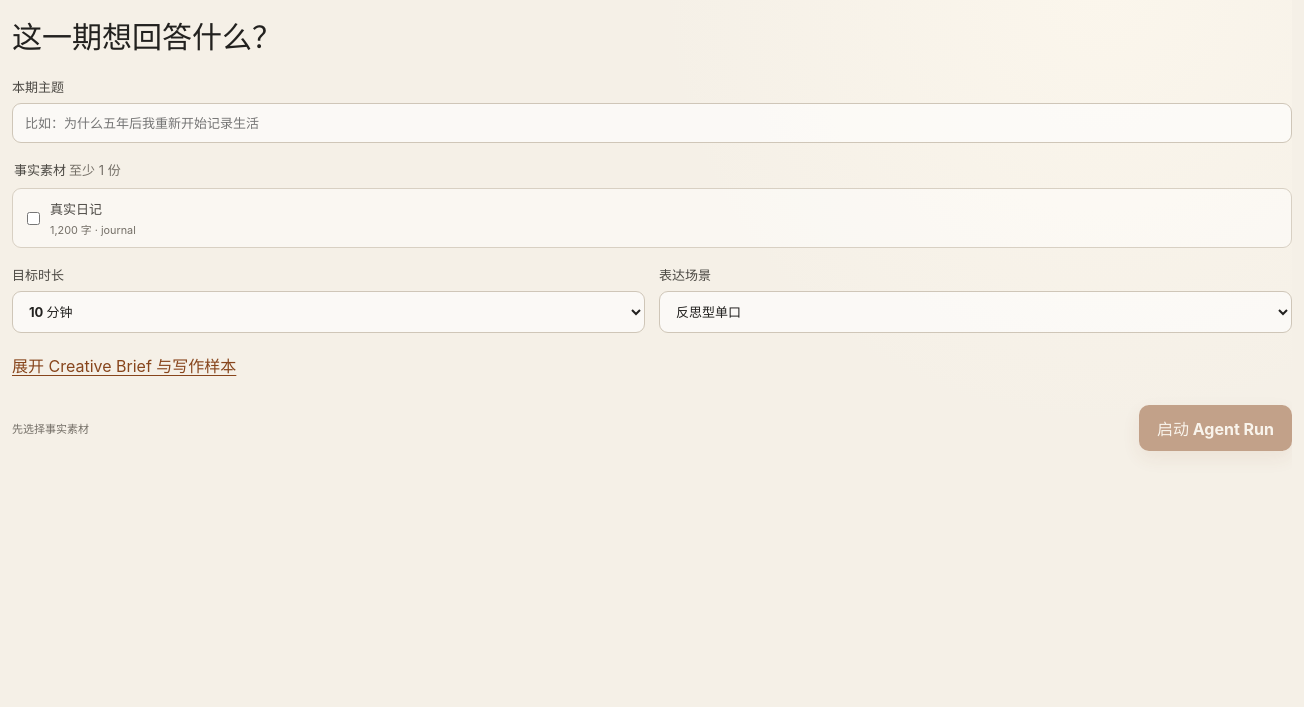
Test: Create Run writing-sample consent › offers writing samples only in the explicit style-only selector
The width and height of the screenshot is (1304, 707).
Expected: the checkbox named "作为事实素材选择：真实日记" is shown, [27,212,40,224]
Click the button "展开 Creative Brief 与写作样本": (124, 365) [12,353,236,377]
(page scrolled)
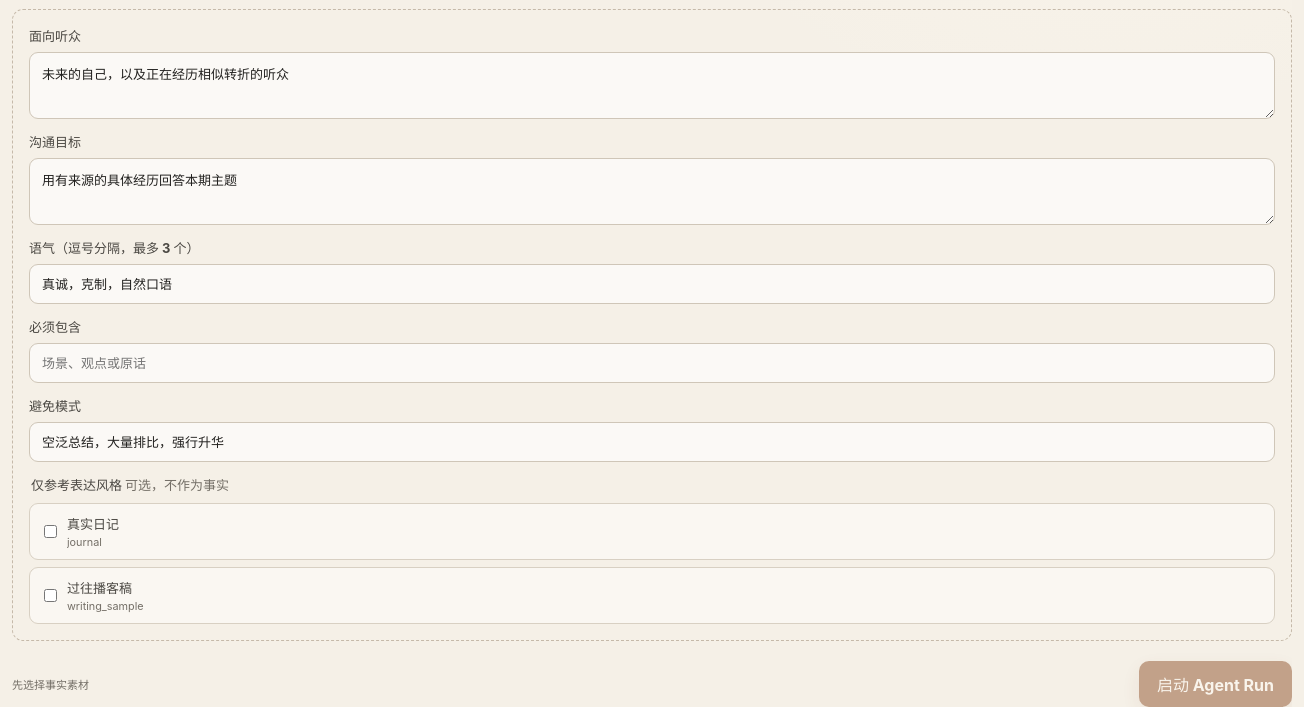
Result: the checkbox named "作为风格样本选择：过往播客稿" is shown at [44,589,57,602]
